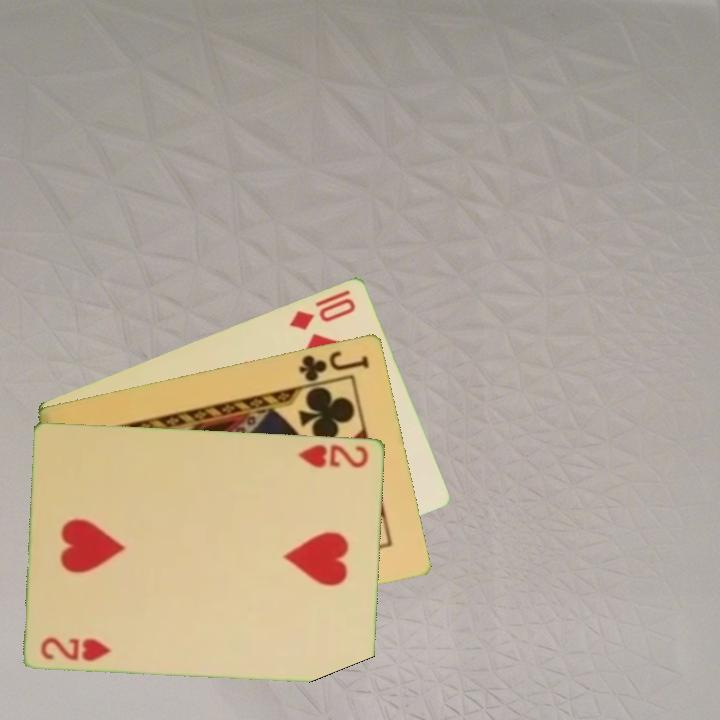10d: (285, 294, 359, 333)
2h: (38, 633, 115, 664), (295, 440, 371, 471)
Jc: (295, 346, 373, 384)
